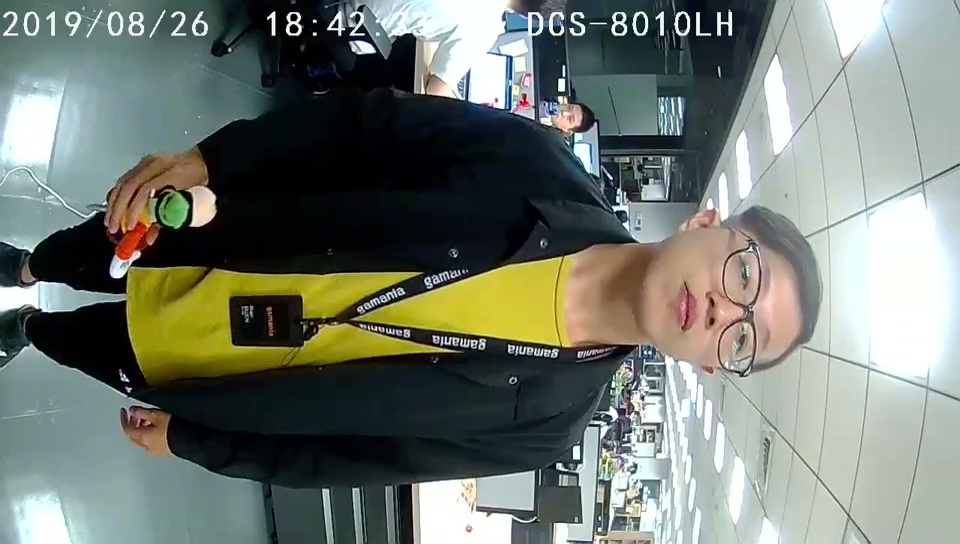goofy: (104, 184, 218, 280)
